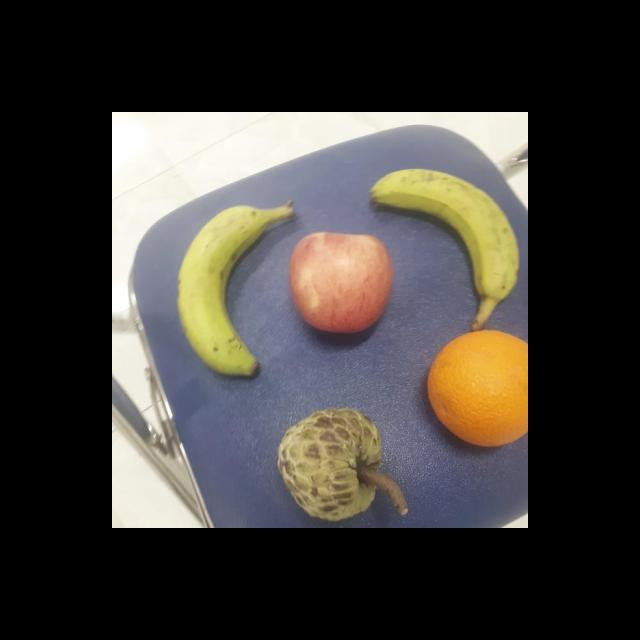Sakya fruit: (278, 406, 385, 523)
apple: (288, 232, 394, 336)
banana: (368, 161, 524, 304), (176, 200, 293, 376)
orange: (422, 325, 527, 448)
